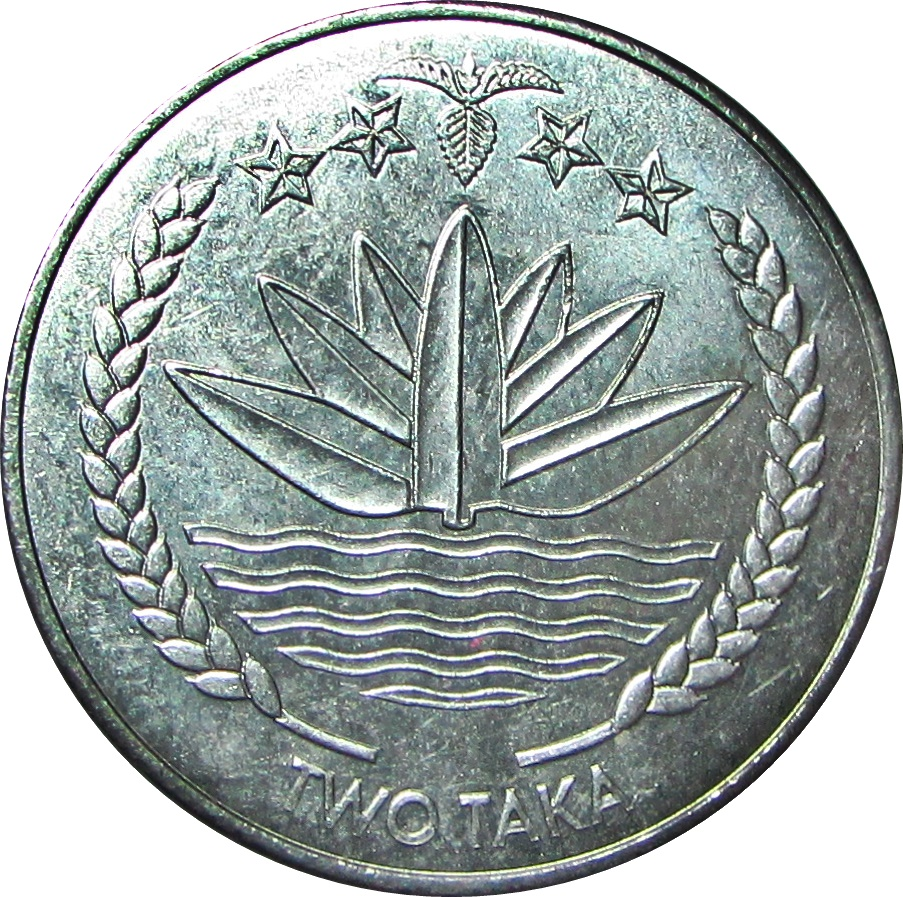5 taka coin: (2, 2, 903, 897)
